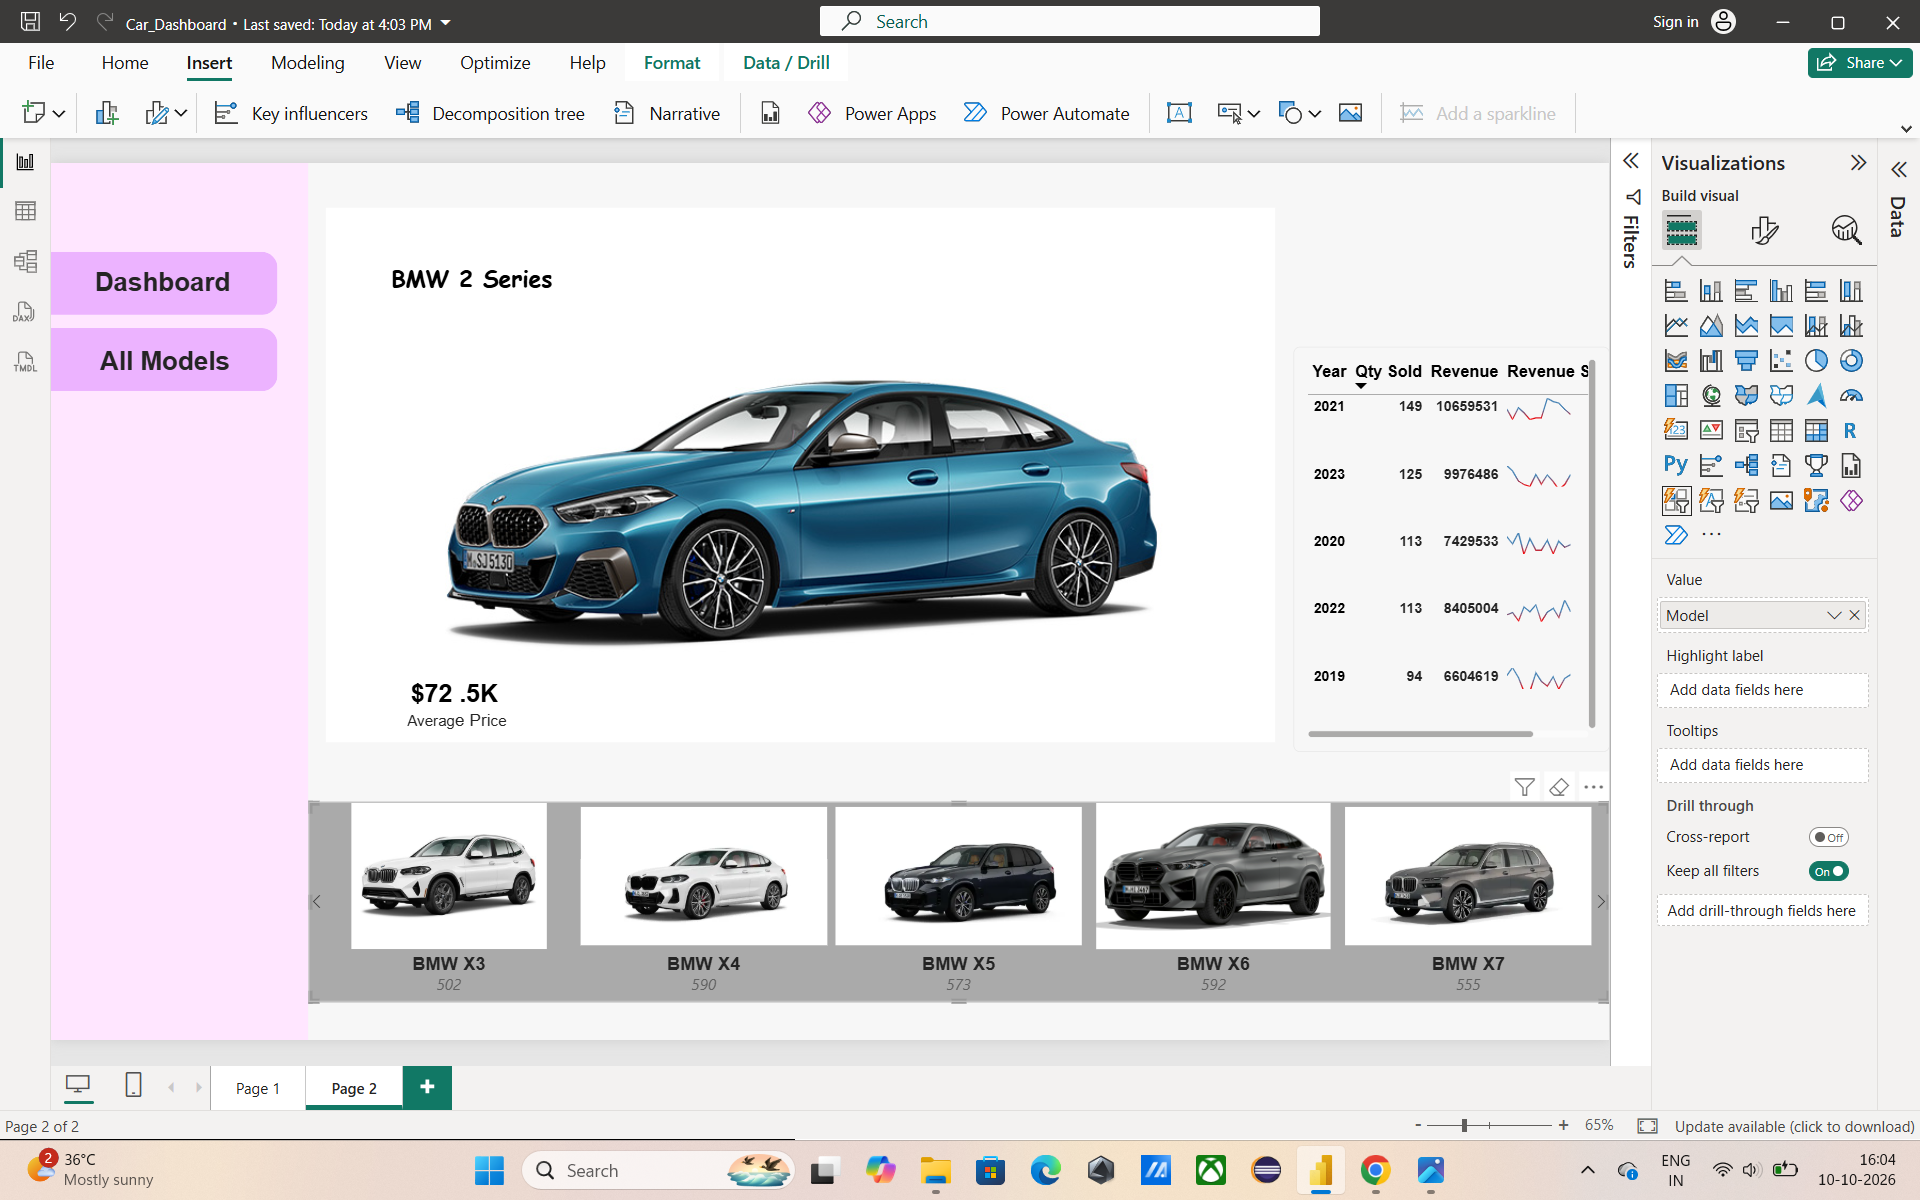

This screenshot's page, from the dashboard's own definition file:
{"tool":"powerbi","page":{"name":"Page 2","canvas":[1920,1080],"ordinal":1},"visuals":[{"type":"advancedSlicerVisual","fields":{"Values":["dimModel.Model"]},"box":[317.4,0,1212.2,769.2],"z":0},{"type":"advancedSlicerVisual","fields":{"Values":["dimModel.Model"]},"box":[317,786.3,1603.4,247],"z":1000},{"type":"shape","box":[385.5,95.9,266.9,90.7],"z":2000},{"type":"shape","box":[362.8,608.7,266.9,90.7],"z":3000},{"type":"textbox","box":[439.5,675,158.7,48.8],"z":4000},{"type":"tableEx","fields":{"Values":["Calendar.Year","select1","All Measures.Qty Sold","select","All Measures.Revenue","All Measures.Revenue Sparkline"]},"box":[1530.8,226,389.7,498.8],"z":5000},{"type":"shape","box":[0,0,317,1080.6],"z":6000},{"type":"shape","box":[0,202.7,279,77.9],"z":7000},{"type":"textbox","box":[48.3,226,185.2,51.5],"z":8000},{"type":"shape","box":[0,109.1,279,77.9],"z":9000},{"type":"textbox","box":[54.6,129.4,179.3,46.8],"z":10000},{"type":"actionButton","box":[12.5,109.1,238.5,71.7],"z":11000},{"type":"actionButton","box":[0,215.1,251,51.4],"z":12000}]}

Visuals, with their boxes on the page's 1920x1080 design canvas (x1, y1, x2, y2). These are canvas units, not pixel positions in the 1920x1200 screenshot, which may show the page scaled, cropped or inside an application window:
advancedSlicerVisual - dimModel.Model: rect(317, 0, 1530, 769)
advancedSlicerVisual - dimModel.Model: rect(317, 786, 1920, 1033)
shape: rect(386, 96, 652, 187)
shape: rect(363, 609, 630, 699)
textbox: rect(440, 675, 598, 724)
tableEx - Calendar.Year x select1: rect(1531, 226, 1920, 725)
shape: rect(0, 0, 317, 1081)
shape: rect(0, 203, 279, 281)
textbox: rect(48, 226, 234, 278)
shape: rect(0, 109, 279, 187)
textbox: rect(55, 129, 234, 176)
actionButton: rect(12, 109, 251, 181)
actionButton: rect(0, 215, 251, 266)
